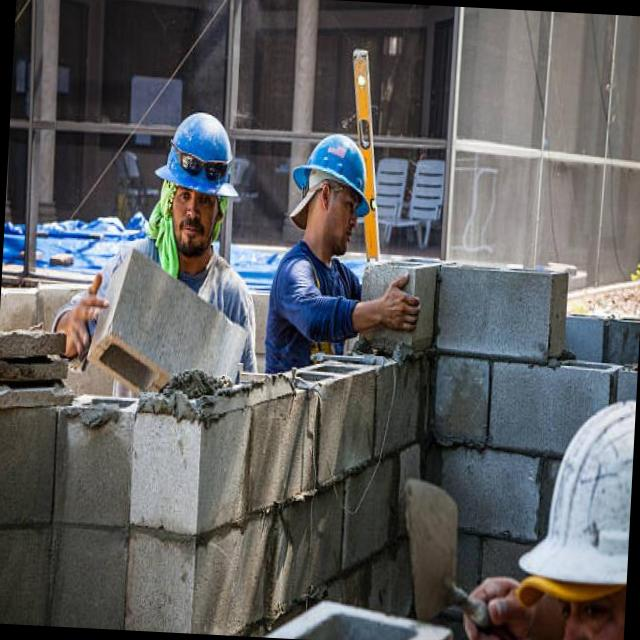Helmet: (160, 91, 244, 202)
